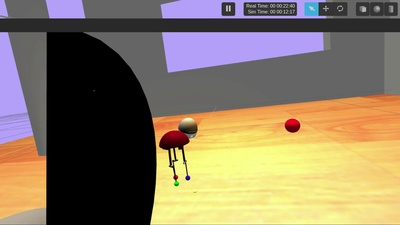mira_robot: (178, 117, 199, 138)
